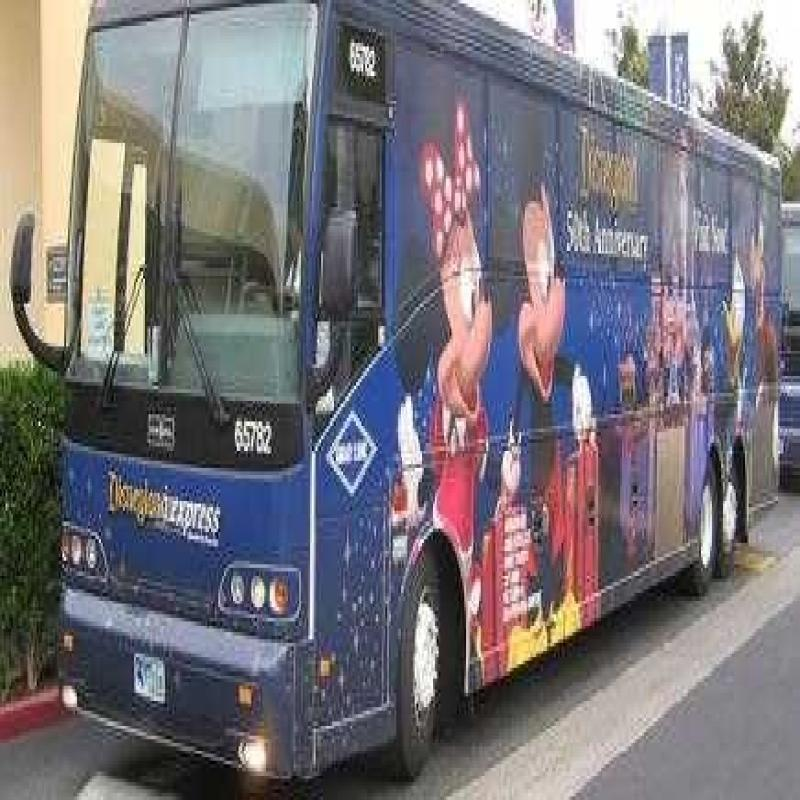bus: (34, 0, 800, 726)
